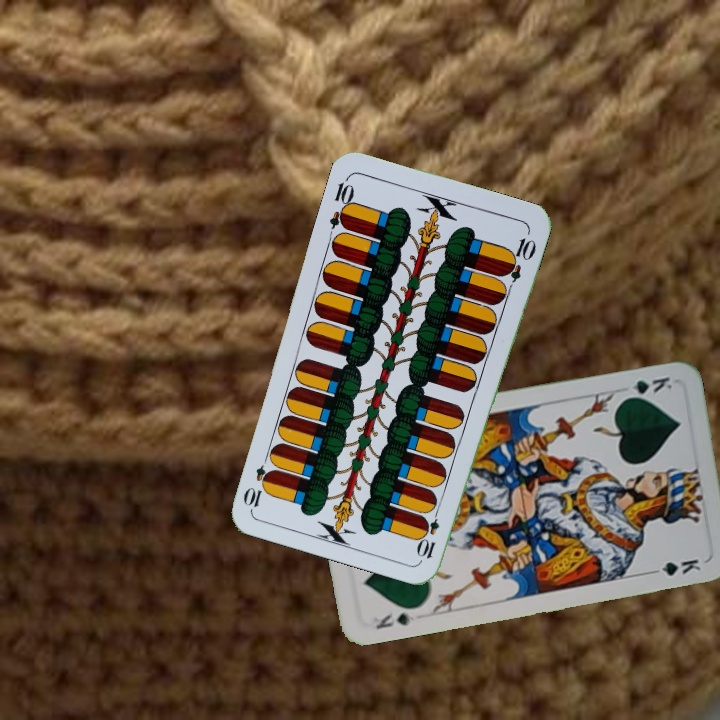E10: (325, 173, 357, 232), (415, 502, 443, 561)
GK: (619, 373, 675, 402), (369, 608, 417, 632)
